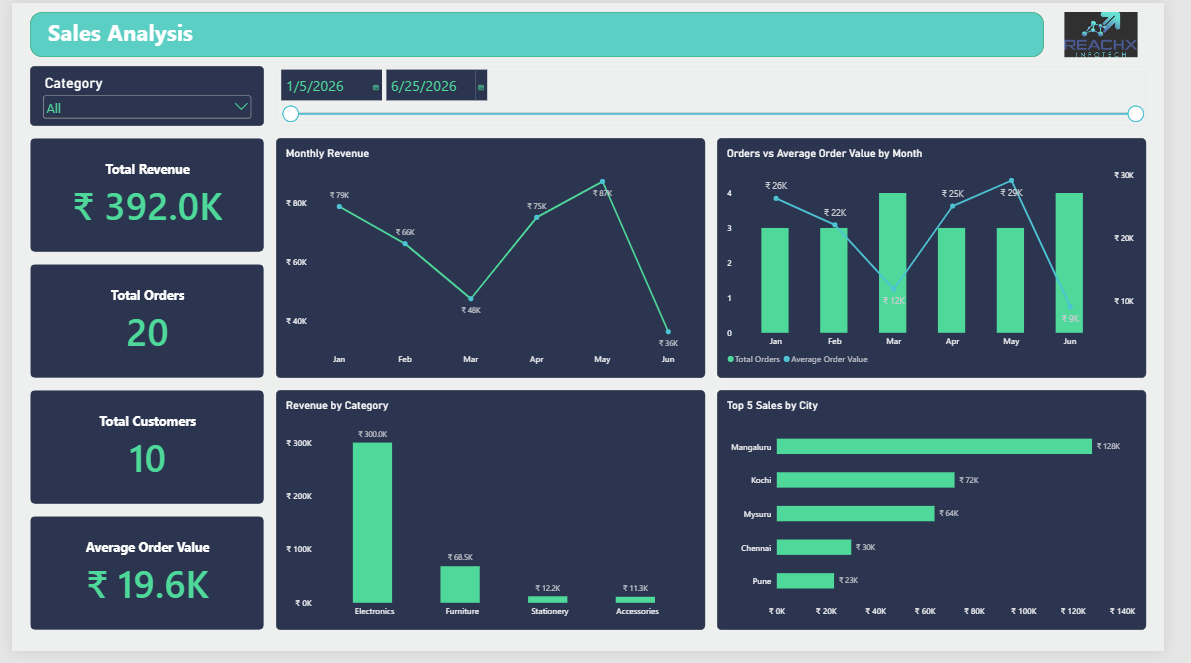

What the dashboard file says about the page in this screenshot:
{"tool":"powerbi","page":{"name":"Sales Overview","canvas":[1920,1080],"ordinal":0},"visuals":[{"type":"cardVisual","fields":{"Data":["public order_items.Total Revenue"]},"box":[30,225,390,190],"z":0},{"type":"cardVisual","fields":{"Data":["public orders.Total Orders"]},"box":[30,435,390,190],"z":1000},{"type":"cardVisual","fields":{"Data":["public customers.Total Customers"]},"box":[30,645,390,190],"z":2000},{"type":"cardVisual","fields":{"Data":["public orders.Average Order Value"]},"box":[30,855,390,190],"z":3000},{"type":"textbox","box":[29.6,14.8,759.3,59.2],"z":4000},{"type":"lineChart","title":"Monthly Revenue","fields":{"Category":["public orders.Month Name"],"Y":["public order_items.Total Revenue"]},"box":[440,225,715,400],"z":5000},{"type":"clusteredColumnChart","title":"Revenue by Category","fields":{"Category":["public products.category"],"Y":["public order_items.Total Revenue"]},"box":[440,645,715,400],"z":6000},{"type":"clusteredBarChart","title":"Top 5 Sales by City","fields":{"Category":["public customers.city"],"Y":["public order_items.Total Revenue"]},"box":[1175,645,715,400],"z":7000},{"type":"slicer","fields":{"Values":["public orders.order_date"]},"box":[440,105,1450,100],"z":8000},{"type":"slicer","fields":{"Values":["public products.category"]},"box":[30,105,390,100],"z":9000},{"type":"image","box":[1740,15,150,75],"z":11000},{"type":"shape","box":[30,15,1690,75],"z":11001},{"type":"textbox","box":[60,22.5,635,57.5],"z":11002},{"type":"lineClusteredColumnComboChart","title":"Orders vs Average Order Value by Month","fields":{"Category":["Calendar.Month Name"],"Y":["public orders.Total Orders"],"Y2":["public orders.Average Order Value"]},"box":[1175,225,715,400],"z":11003}]}

Visuals, with their boxes in screenshot pixels (x1, y1, x2, y2), scaled from the page's 1920x1080 canvas onto the 1191x663 screenshot:
cardVisual - public order_items.Total Revenue: (19, 138, 261, 255)
cardVisual - public orders.Total Orders: (19, 267, 261, 384)
cardVisual - public customers.Total Customers: (19, 396, 261, 513)
cardVisual - public orders.Average Order Value: (19, 525, 261, 642)
textbox: (18, 9, 489, 45)
"Monthly Revenue" lineChart: (273, 138, 716, 384)
"Revenue by Category" clusteredColumnChart: (273, 396, 716, 642)
"Top 5 Sales by City" clusteredBarChart: (729, 396, 1172, 642)
slicer - public orders.order_date: (273, 64, 1172, 126)
slicer - public products.category: (19, 64, 261, 126)
image: (1079, 9, 1172, 55)
shape: (19, 9, 1067, 55)
textbox: (37, 14, 431, 49)
"Orders vs Average Order Value by Month" lineClusteredColumnComboChart: (729, 138, 1172, 384)
